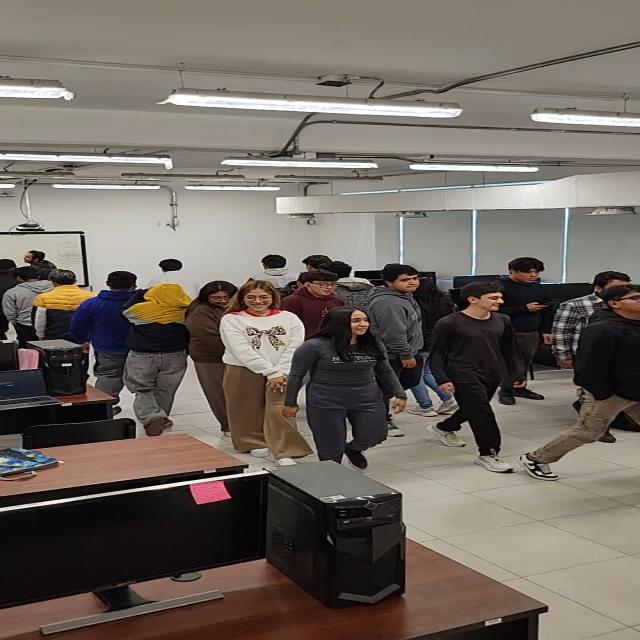Persona: (517, 283, 640, 480), (280, 308, 410, 469), (220, 278, 316, 468), (427, 280, 519, 473), (364, 264, 432, 436), (118, 282, 190, 432), (67, 270, 149, 394), (186, 279, 247, 436), (490, 256, 547, 404), (554, 270, 633, 365), (29, 268, 102, 342), (1, 266, 62, 343), (279, 271, 355, 327), (147, 258, 205, 304), (249, 252, 303, 288), (20, 252, 54, 276), (302, 252, 336, 272), (0, 259, 18, 290)
